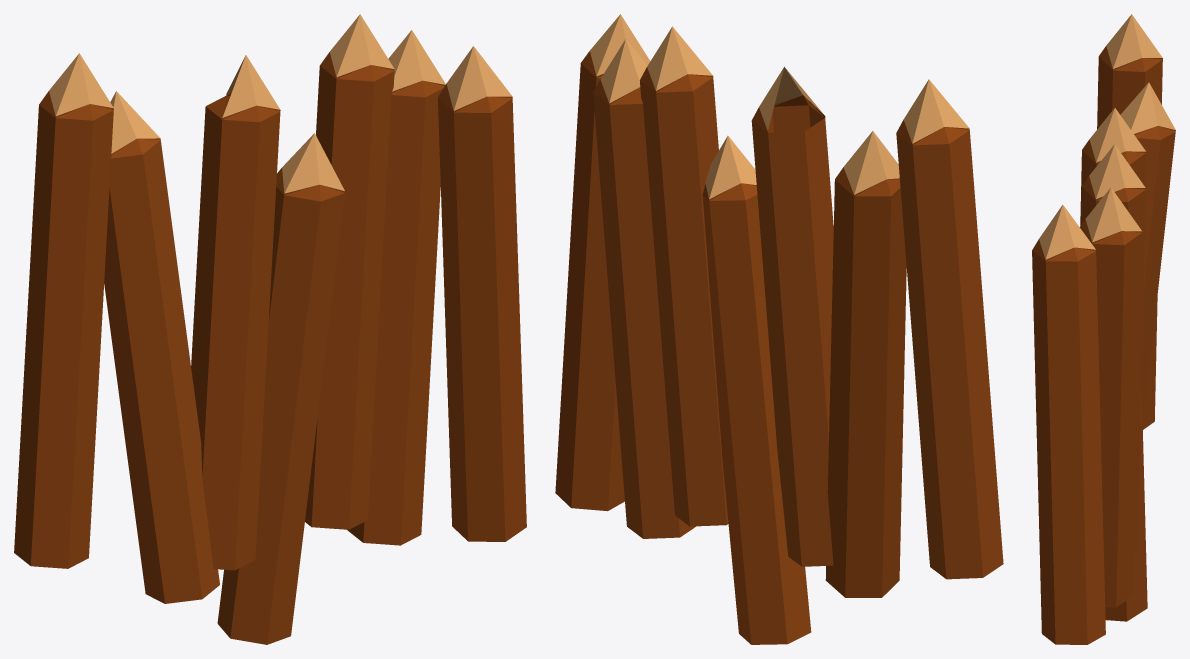
File: wooden_wall_damaged.dae
3 views of the same model, side by side, from view 1: azimuth 30°, elevation 25°; view 2: azimuth 150°, elevation 25°; view 3: azimuth 270°, elevation 25° (orthographic). The views are drawn at different scales.
Visible parts, largest first — view 1: wall; view 2: wall; view 3: wall.
Part boxes in pixels (x1,y1,x2,y2): wall: [14, 14, 526, 644]; wall: [555, 14, 1003, 644]; wall: [1032, 14, 1175, 644].
Size of the model in its own units: 3.43 by 1.07 by 4.3.
